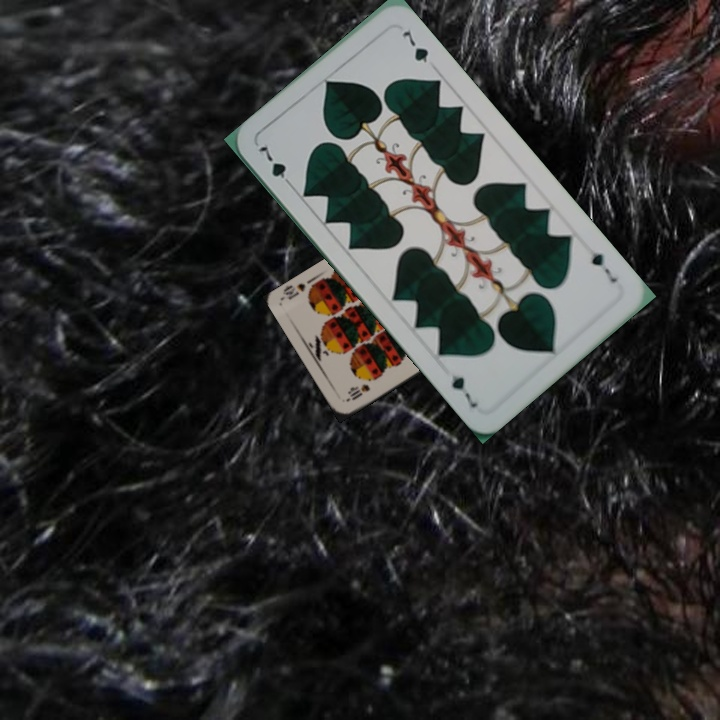G7: (254, 139, 296, 191), (587, 248, 621, 286)
S10: (343, 380, 373, 403)
